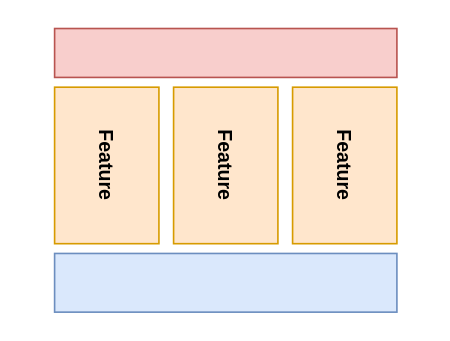
This 450x341 diagram has some shape labels left out. Here are the shapes that lost their labels. From the top down, the box of each, then its label:
(53, 27, 397, 77): API
(53, 252, 397, 312): Database schema
